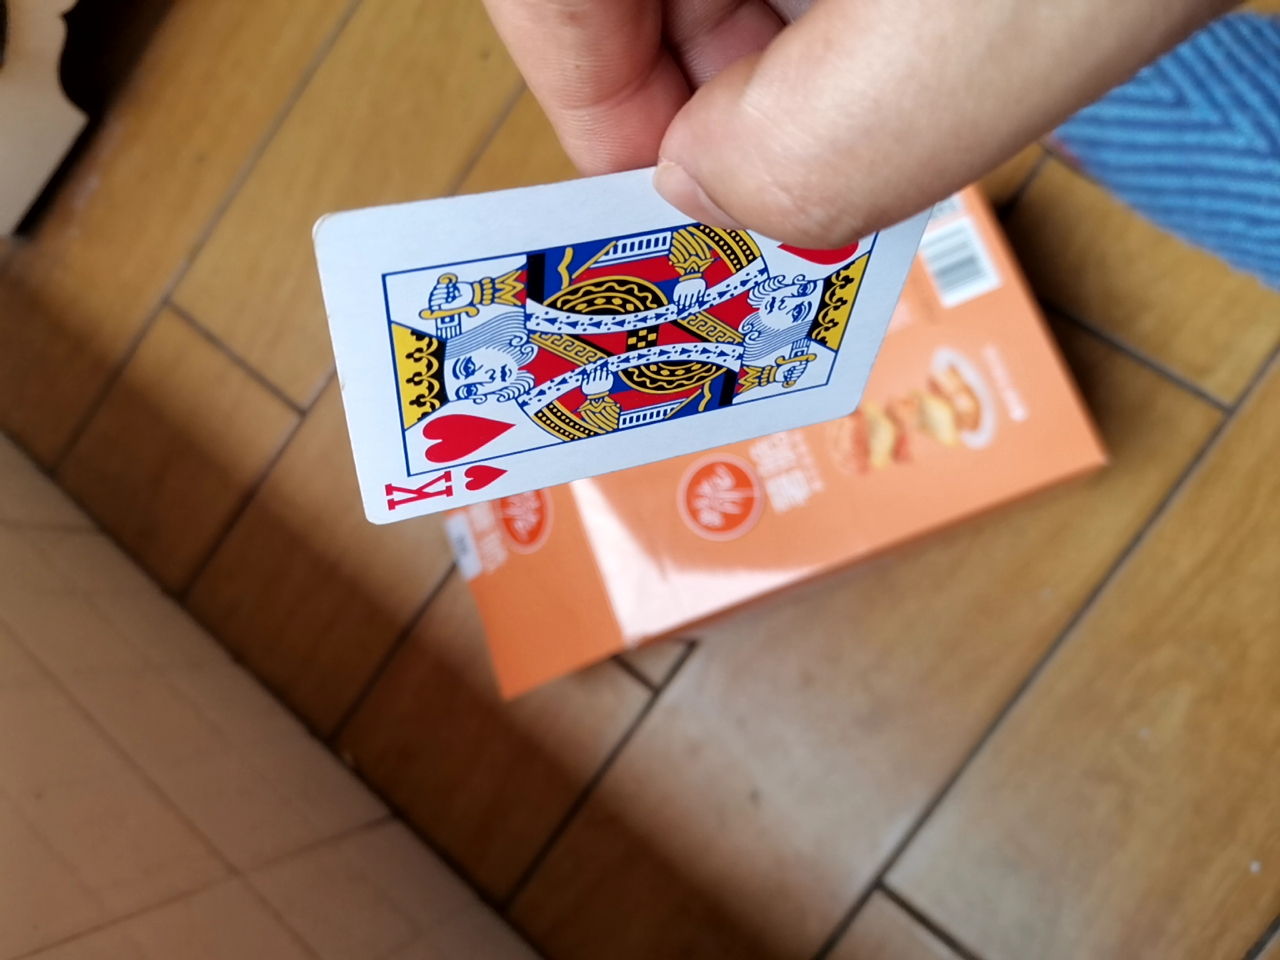hx k: (299, 168, 945, 567)
